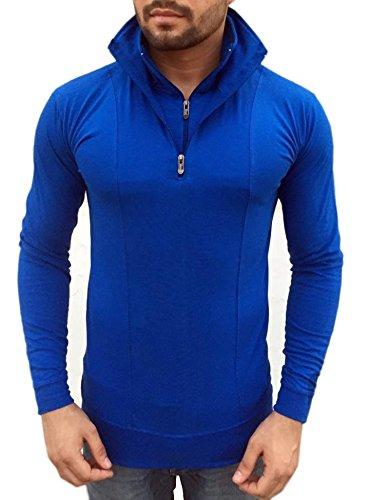T-Shirt: (13, 21, 346, 431)
